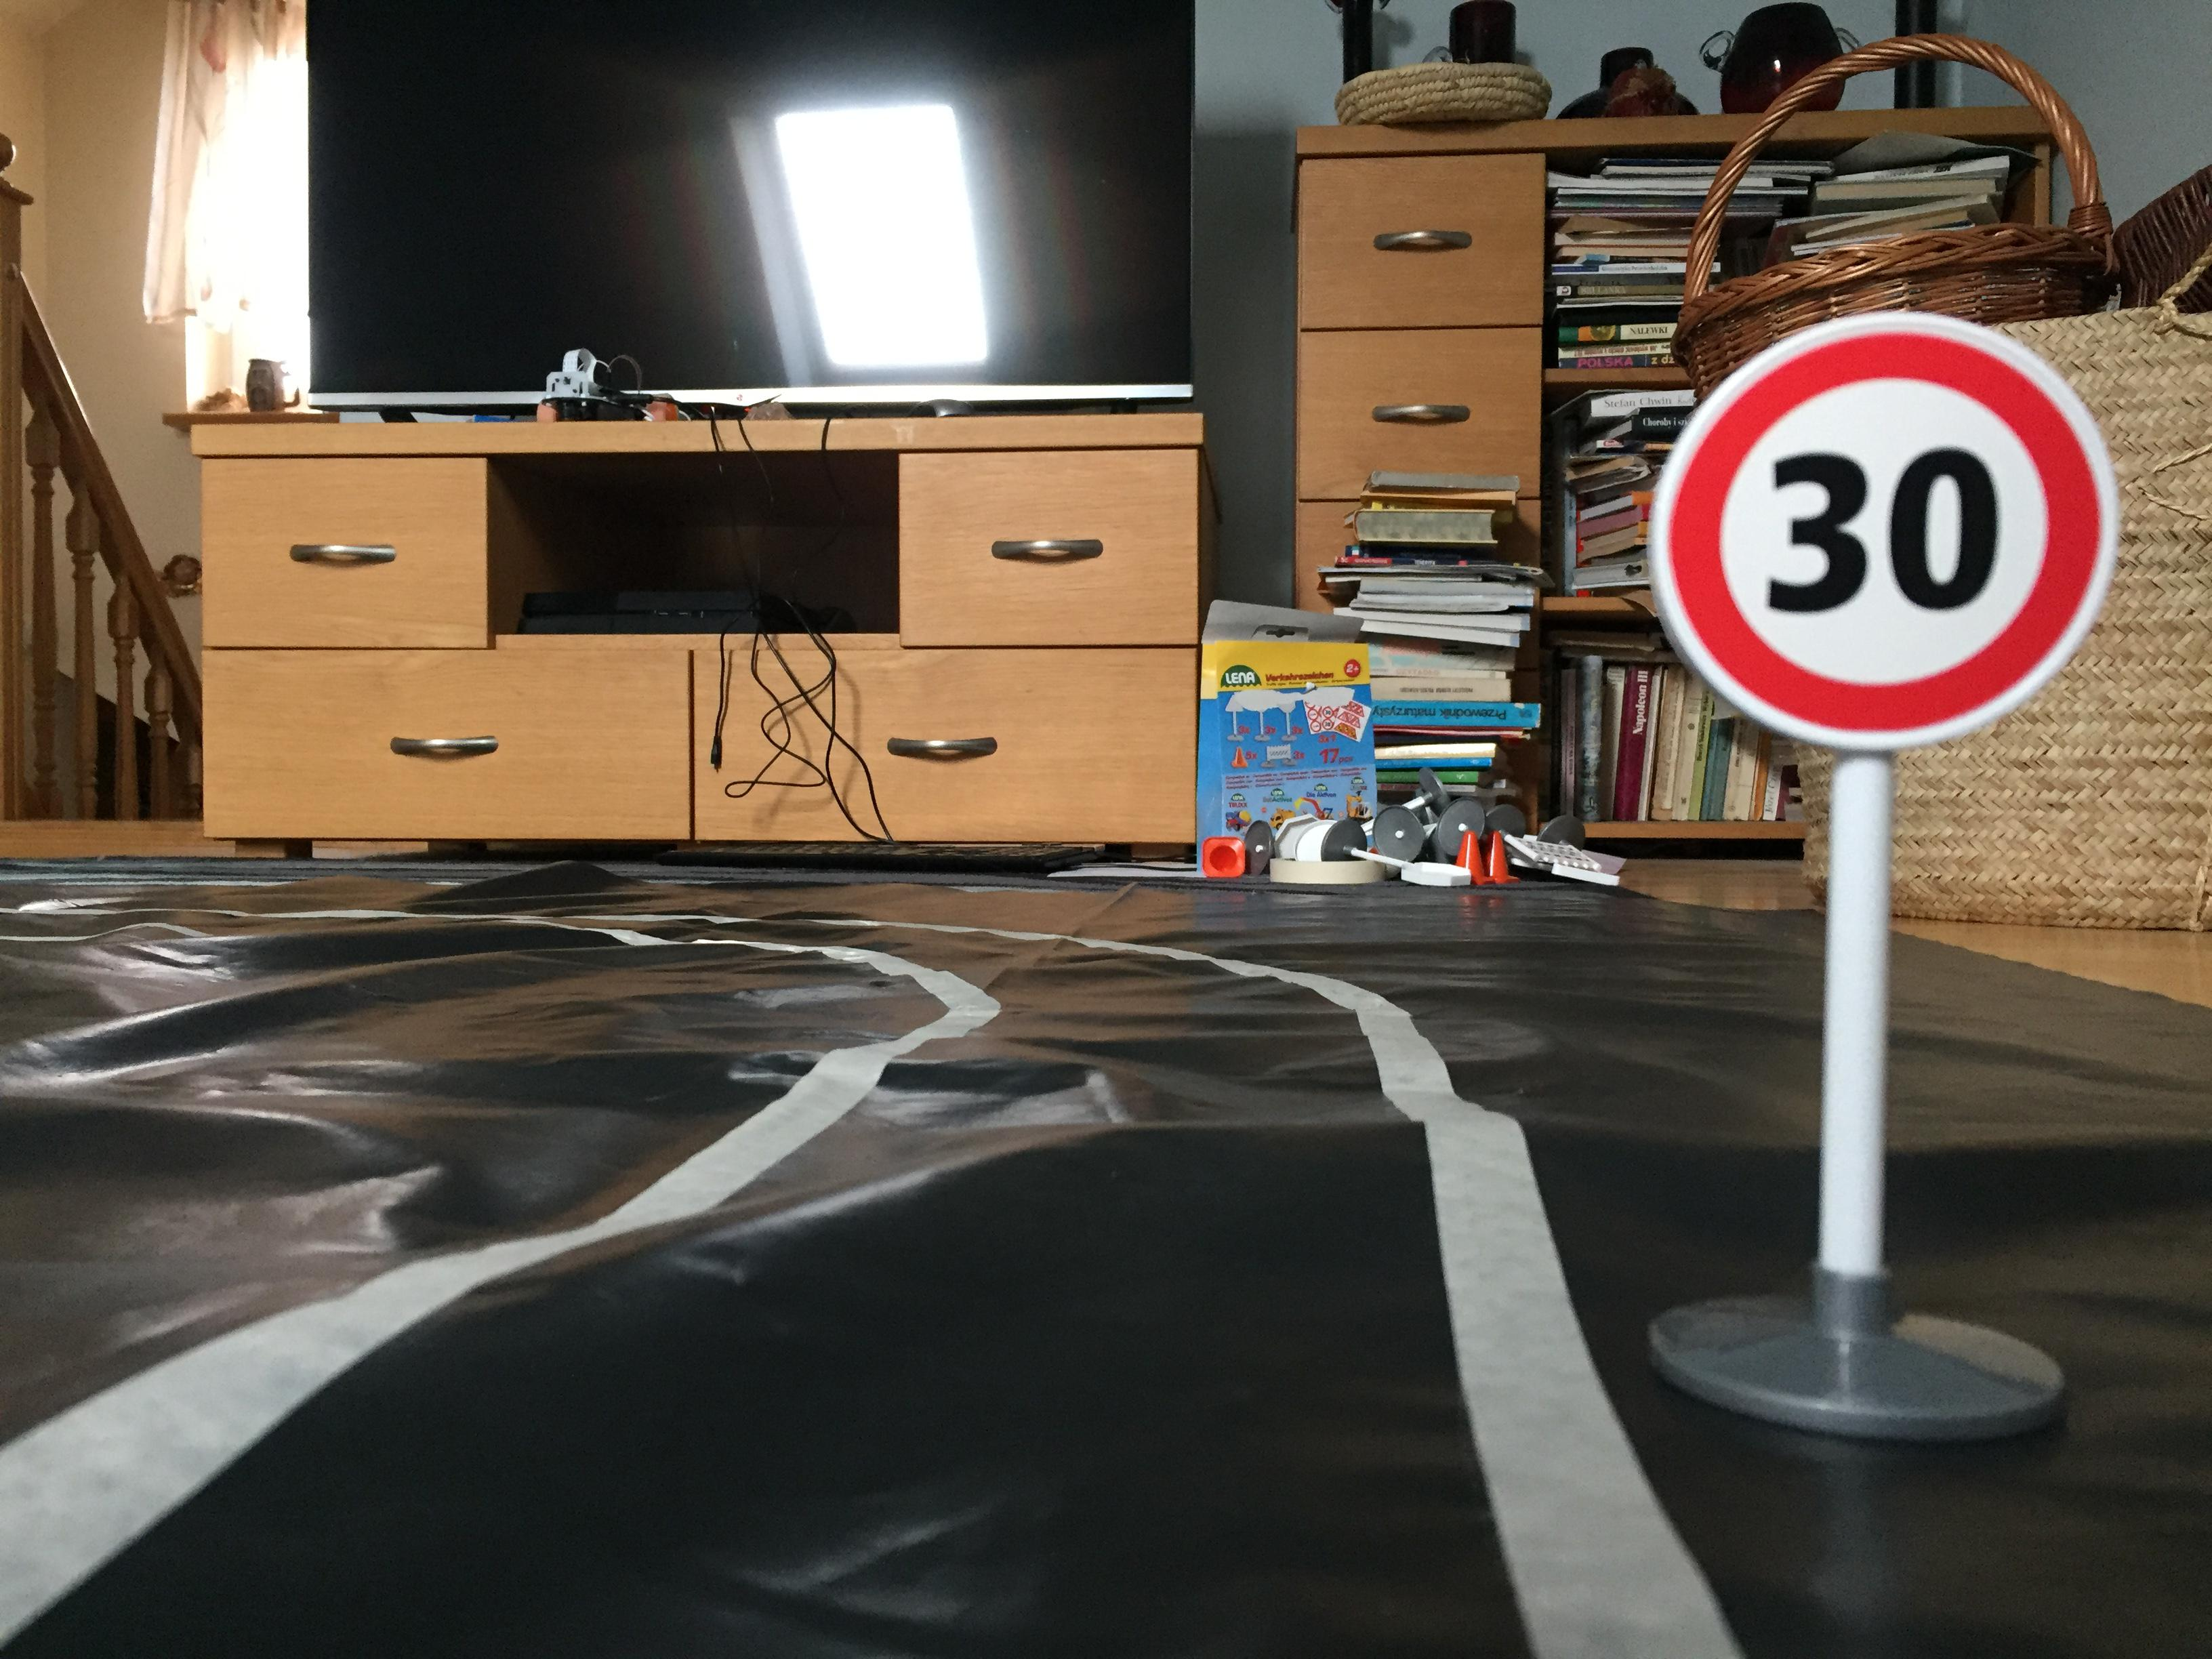speed: (1641, 308, 2132, 772)
